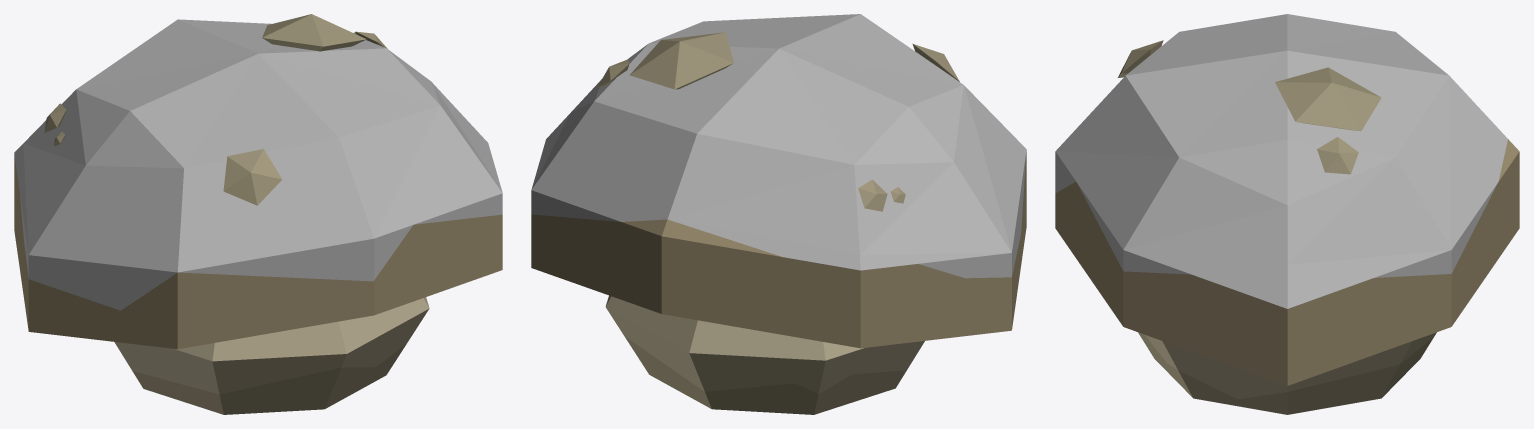
Rendered from Mushroom_01.FBX.
3 renders of one model, left to right at view 1: azimuth 30°, elevation 25°; view 2: azimuth 150°, elevation 25°; view 3: azimuth 270°, elevation 25°, orthographic.
Visible parts, largest first — view 1: Mushroom_01; view 2: Mushroom_01; view 3: Mushroom_01.
Part boxes in pixels (box(x1,y1,x2,y2)): Mushroom_01: box(14, 14, 502, 414); Mushroom_01: box(531, 14, 1026, 414); Mushroom_01: box(1055, 14, 1519, 414).
Bounding box in the file's own units: 1.56 × 1.01 × 1.36.
